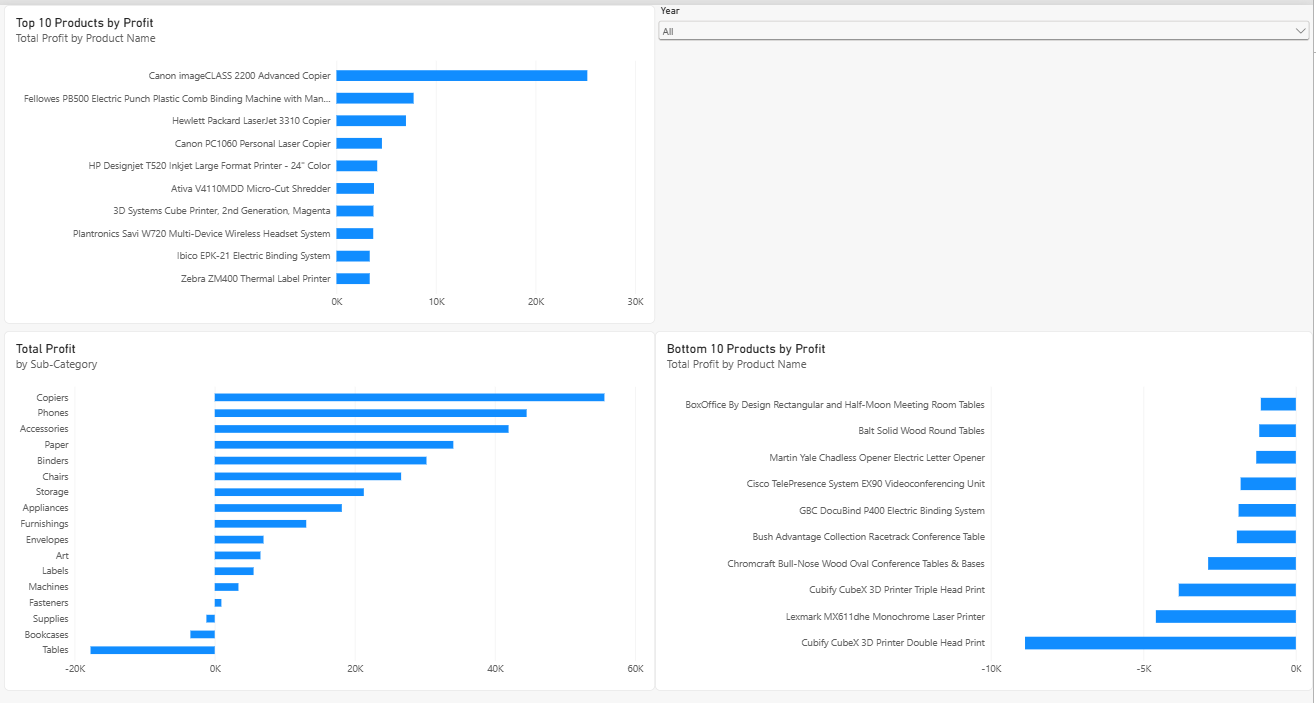

This screenshot's page, from the dashboard's own definition file:
{"tool":"powerbi","page":{"name":"Products","canvas":[1920,1080],"ordinal":1},"visuals":[{"type":"clusteredBarChart","title":"Top 10 Products by Profit","fields":{"Category":["Orders.Product Name"],"Y":["Orders.Total Profit"]},"box":[10.2,0,949.8,465.4],"z":0},{"type":"clusteredBarChart","title":"Bottom 10 Products by Profit","fields":{"Category":["Orders.Product Name"],"Y":["Orders.Total Profit"]},"box":[960,475.6,960,525.2],"z":1},{"type":"clusteredBarChart","fields":{"Category":["Orders.Sub-Category"],"Y":["Orders.Total Profit"]},"box":[10.2,475.6,949.8,525.2],"z":2},{"type":"slicer","fields":{"Values":["Date.Year"]},"box":[960,0,960,465.4],"z":3}]}

Visuals, with their boxes on the page's 1920x1080 design canvas (x1, y1, x2, y2). These are canvas units, not pixel positions in the 1316x703 screenshot, which may show the page scaled, cropped or inside an application window:
"Top 10 Products by Profit" clusteredBarChart: 10/0/960/465
"Bottom 10 Products by Profit" clusteredBarChart: 960/476/1920/1001
clusteredBarChart - Orders.Sub-Category x Orders.Total Profit: 10/476/960/1001
slicer - Date.Year: 960/0/1920/465
